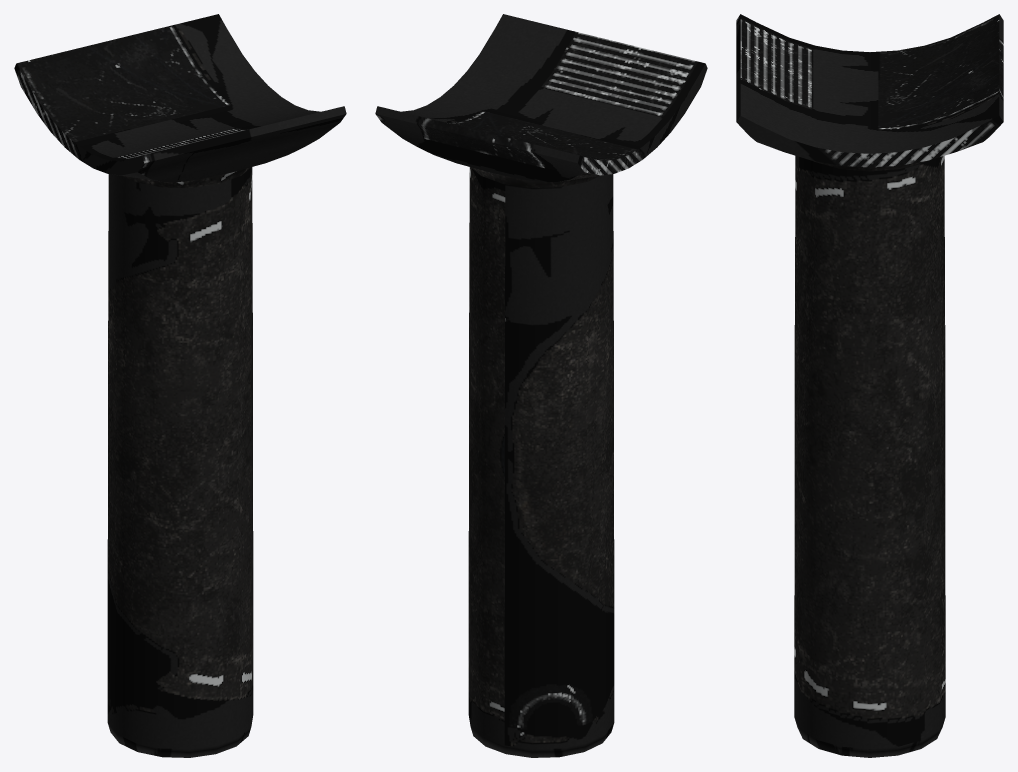
Rendered from BMX_Seat Post_Ulysses_Post.fbx.
The picture shows the model from 3 angles, left to right: view 1: azimuth 30°, elevation 25°; view 2: azimuth 150°, elevation 25°; view 3: azimuth 270°, elevation 25°; orthographic projection. The views are drawn at different scales.
Visible parts, largest first — view 1: BMX_SeatPost_Ulysses_Post; view 2: BMX_SeatPost_Ulysses_Post; view 3: BMX_SeatPost_Ulysses_Post.
Part boxes in pixels (<box>): BMX_SeatPost_Ulysses_Post: <box>14,14,346,757</box>; BMX_SeatPost_Ulysses_Post: <box>375,14,707,757</box>; BMX_SeatPost_Ulysses_Post: <box>736,14,1003,757</box>.
Bounding box in the file's own units: 4.08 × 12.4 × 4.53.
